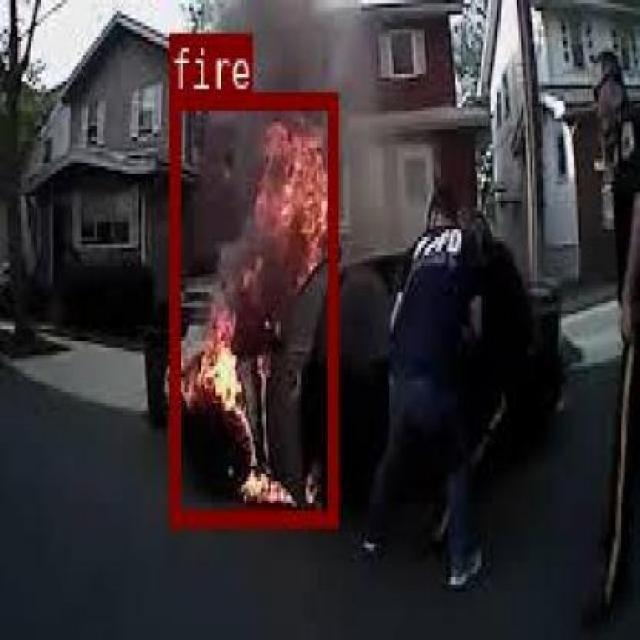Fire: (170, 91, 336, 522)
